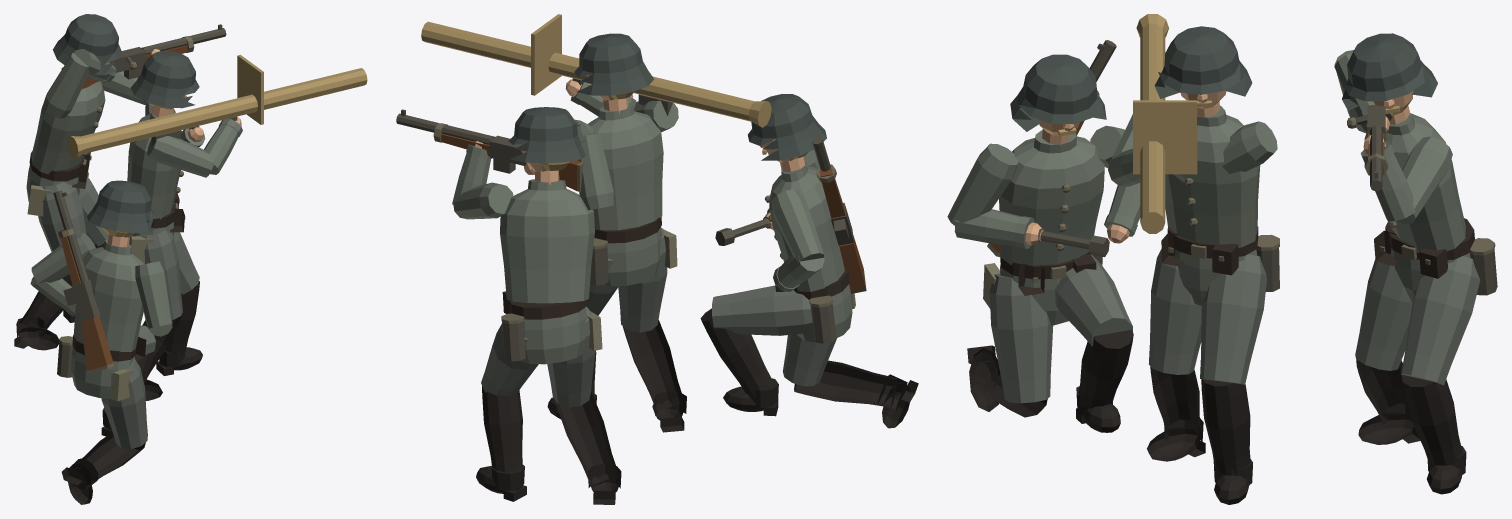
The model's file is de_panzerschreck_team.obj.
3 views of the same model, side by side, from view 1: azimuth 30°, elevation 25°; view 2: azimuth 150°, elevation 25°; view 3: azimuth 270°, elevation 25° (orthographic). The views are drawn at different scales.
Bounding box in the file's own units: 2.09 × 1.96 × 2.02.
